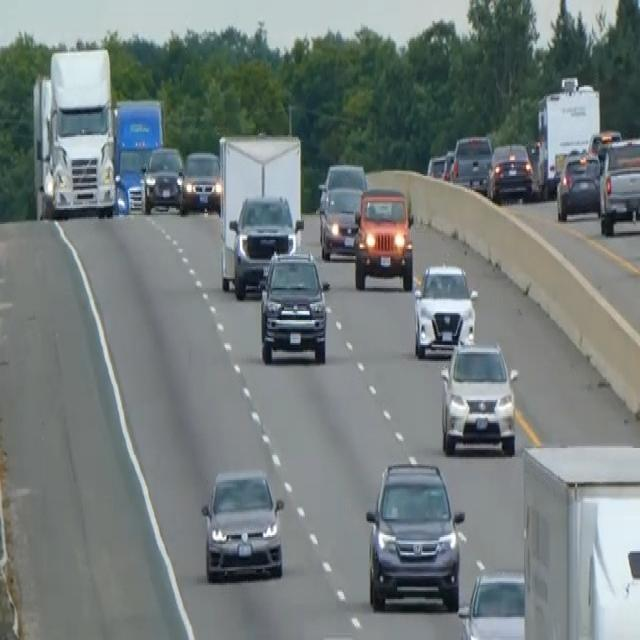car: (364, 458, 465, 612), (200, 466, 285, 583), (439, 340, 518, 455), (226, 192, 302, 297), (353, 185, 414, 290), (412, 260, 477, 358), (317, 160, 367, 260), (457, 567, 526, 638), (598, 135, 639, 235), (555, 150, 601, 220), (141, 144, 184, 212), (487, 140, 533, 202), (179, 148, 221, 214), (317, 160, 367, 212), (450, 133, 493, 192), (586, 126, 621, 171), (426, 150, 452, 180)
jeep: (257, 247, 329, 365)
lorry: (31, 46, 117, 220)
